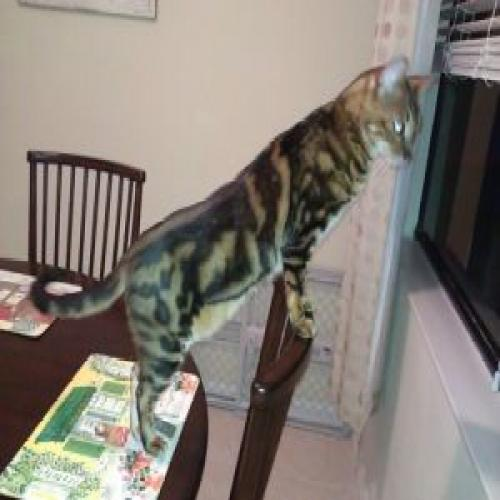cat-face: (349, 54, 436, 184)
